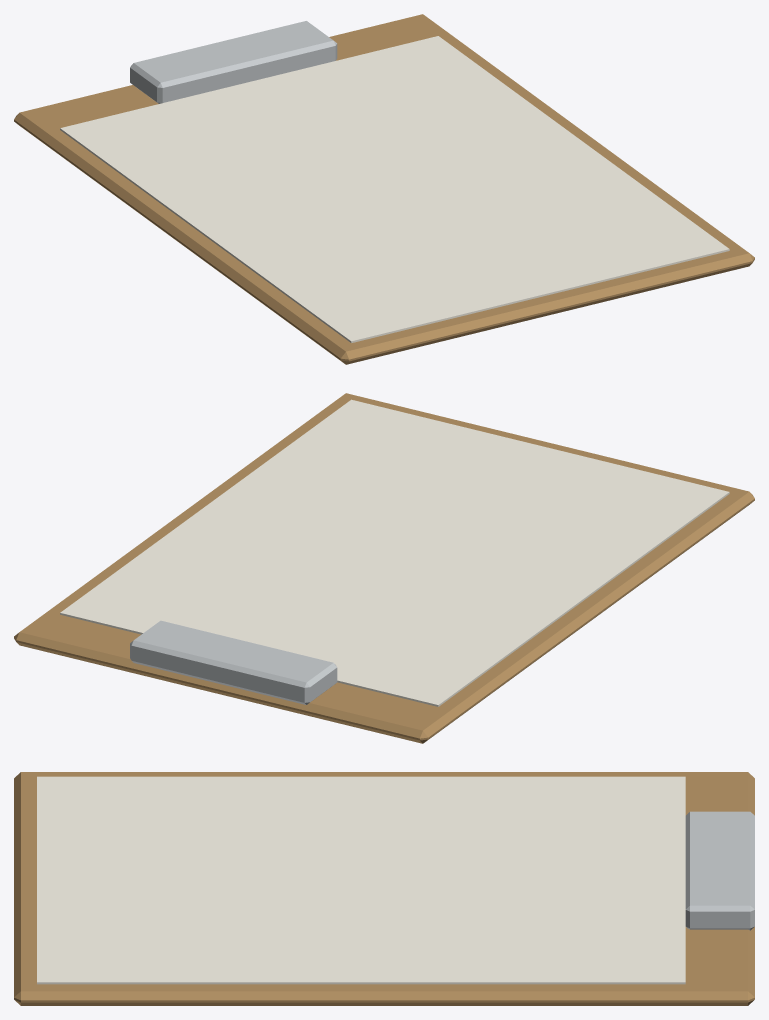
The model's file is sm_prop_clipboard.glb.
3 renders of one model, top to bottom at view 1: azimuth 30°, elevation 25°; view 2: azimuth 150°, elevation 25°; view 3: azimuth 270°, elevation 25°, orthographic. The views are drawn at different scales.
Parts seen in each view (by area): view 1: clipboard_sheet, clipboard_board, clipboard_clip; view 2: clipboard_sheet, clipboard_board, clipboard_clip; view 3: clipboard_sheet, clipboard_board, clipboard_clip.
Part boxes in pixels (box(x1,y1,x2,y2)): clipboard_sheet: box(60, 36, 729, 342); clipboard_board: box(14, 14, 754, 364); clipboard_clip: box(130, 21, 337, 103); clipboard_sheet: box(60, 399, 729, 706); clipboard_board: box(14, 393, 754, 743); clipboard_clip: box(130, 620, 337, 704); clipboard_sheet: box(37, 776, 685, 984); clipboard_board: box(14, 772, 754, 1005); clipboard_clip: box(685, 811, 754, 930).
Size of the model in its own units: 0.23 by 0.018 by 0.32.
